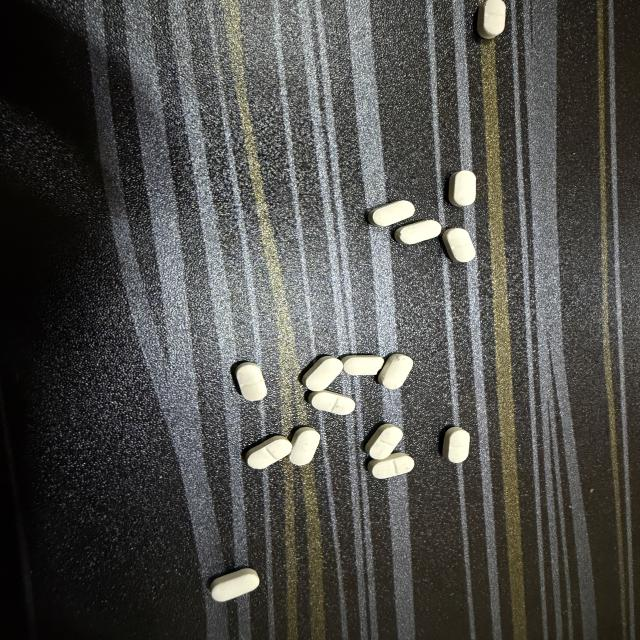pill: (211, 569, 259, 601), (246, 436, 291, 468), (303, 357, 342, 390), (366, 424, 402, 459), (378, 354, 413, 389), (236, 362, 267, 401), (394, 220, 442, 245), (368, 453, 414, 478), (290, 427, 320, 465), (369, 201, 414, 226), (443, 228, 475, 262), (478, 0, 506, 38), (309, 391, 355, 414), (449, 171, 476, 206), (443, 427, 469, 463), (342, 355, 384, 375)
